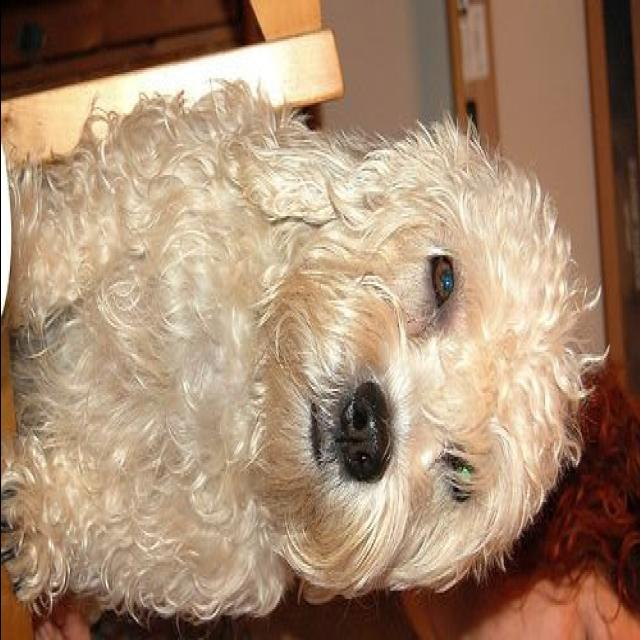dandie_dinmont: (3, 87, 613, 626)
